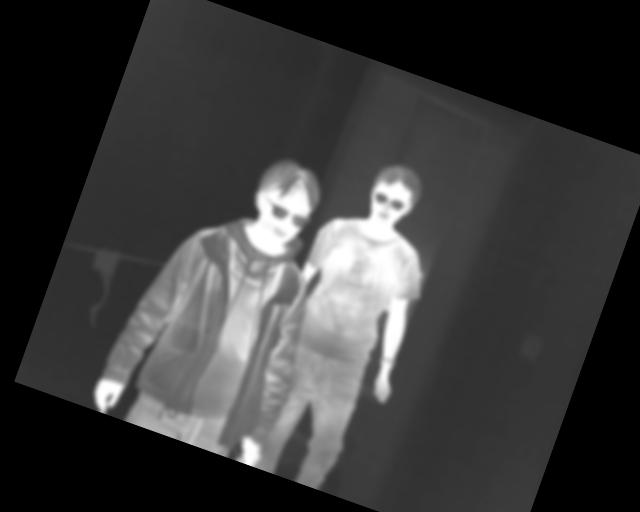face: (242, 150, 328, 251), (359, 156, 427, 236)
